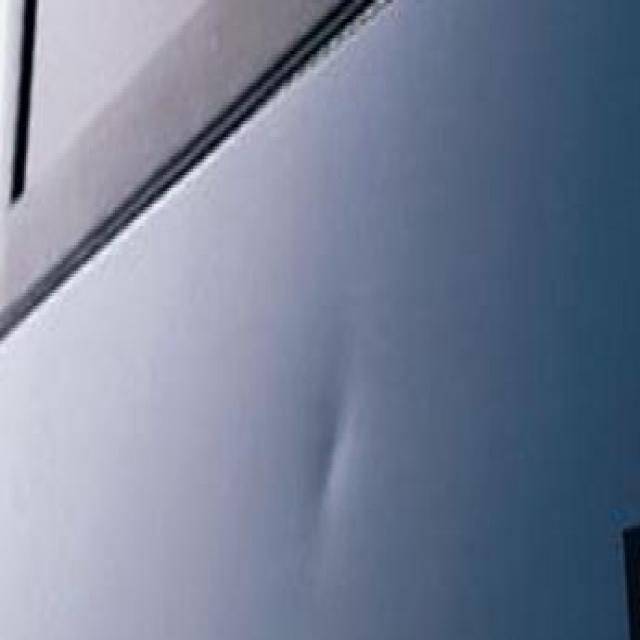dent: (274, 368, 364, 578)
